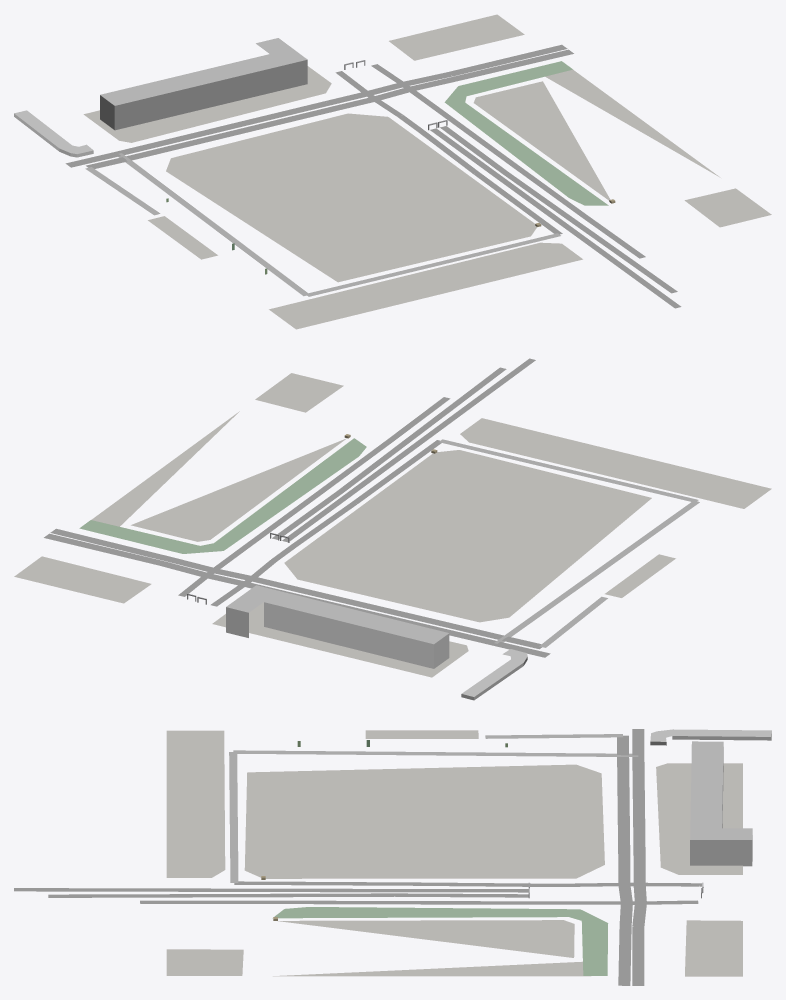
3 views of the same model, one above another, from view 1: azimuth 30°, elevation 25°; view 2: azimuth 150°, elevation 25°; view 3: azimuth 270°, elevation 25° (orthographic). The views are drawn at different scales.
Size of the model in its own units: 522 by 25.86 by 658.
